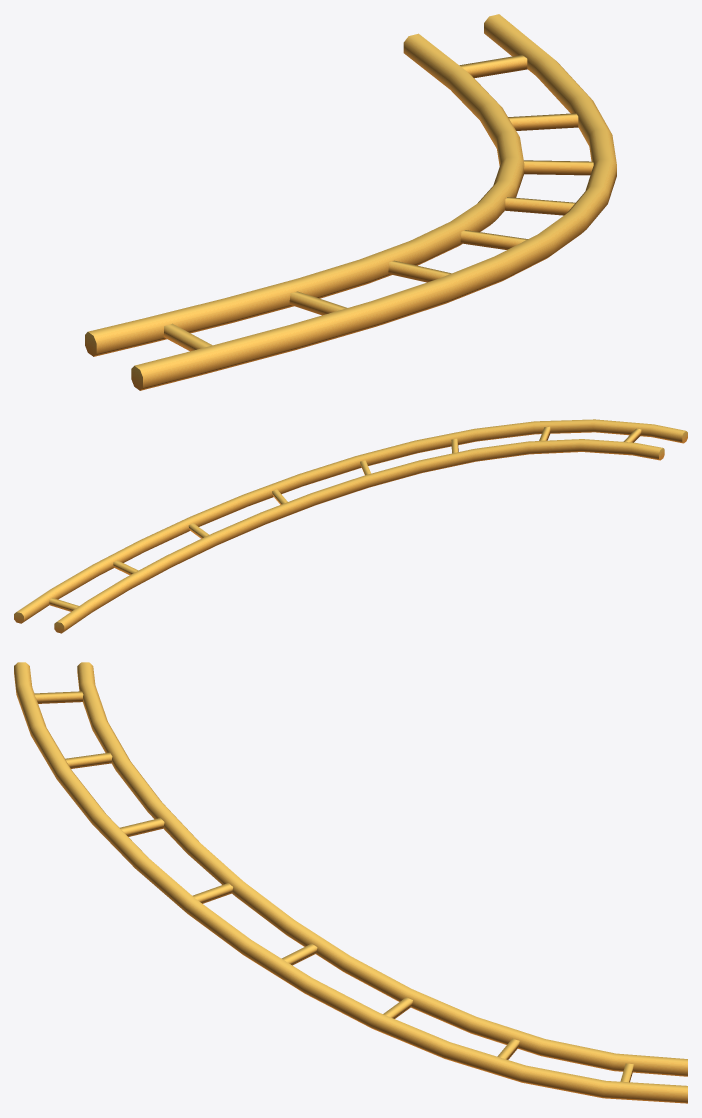
The model's file is mouse-corner-large-ramp.glb.
3 renders of one model, top to bottom at view 1: azimuth 30°, elevation 25°; view 2: azimuth 150°, elevation 25°; view 3: azimuth 270°, elevation 25°, orthographic. The views are drawn at different scales.
Visible parts, largest first — view 1: coaster-mouse-corner-large-ramp; view 2: coaster-mouse-corner-large-ramp; view 3: coaster-mouse-corner-large-ramp.
Boxes of the visible parts, x1,y1,x2,y2 form: coaster-mouse-corner-large-ramp: (85, 14, 616, 390); coaster-mouse-corner-large-ramp: (14, 419, 687, 633); coaster-mouse-corner-large-ramp: (14, 662, 687, 1103).
Bounding box in the file's own units: 4.25 × 1.1 × 4.25.
1 material, 1 textured.
